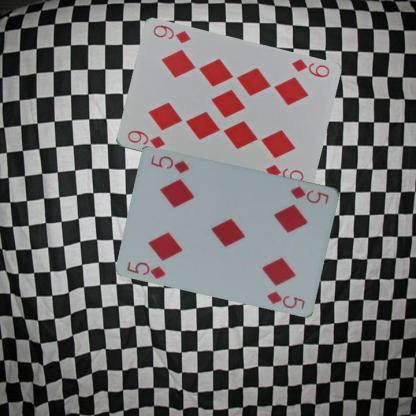5d: (124, 258, 168, 280), (288, 183, 330, 205)
9d: (124, 127, 166, 150), (289, 56, 330, 79)
